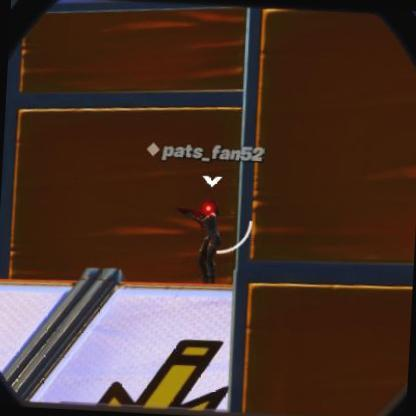person: (191, 197, 222, 270)
